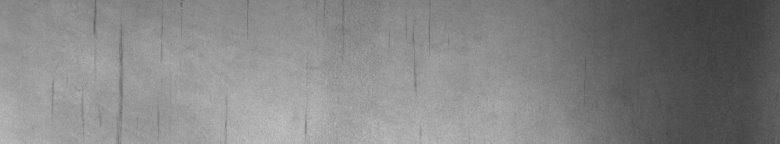ka: (52, 4, 127, 125)
